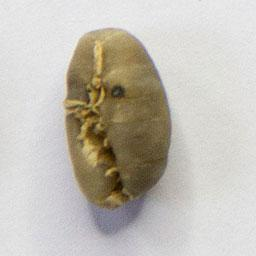peaberry: (60, 23, 174, 214)
